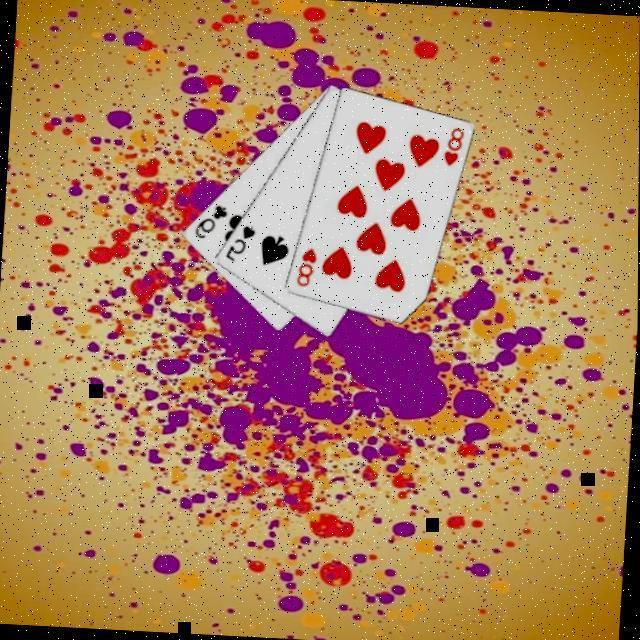5S: (220, 220, 256, 264)
6C: (189, 200, 229, 242)
8H: (291, 243, 319, 290), (439, 124, 465, 169)
